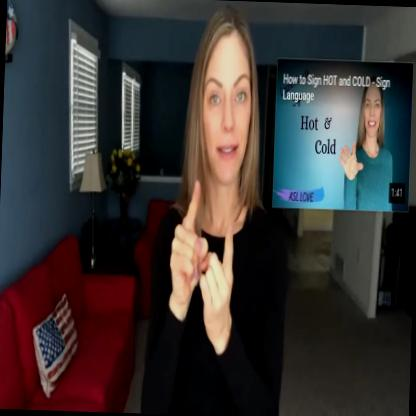NiceToMeetYou: (135, 0, 299, 416)
